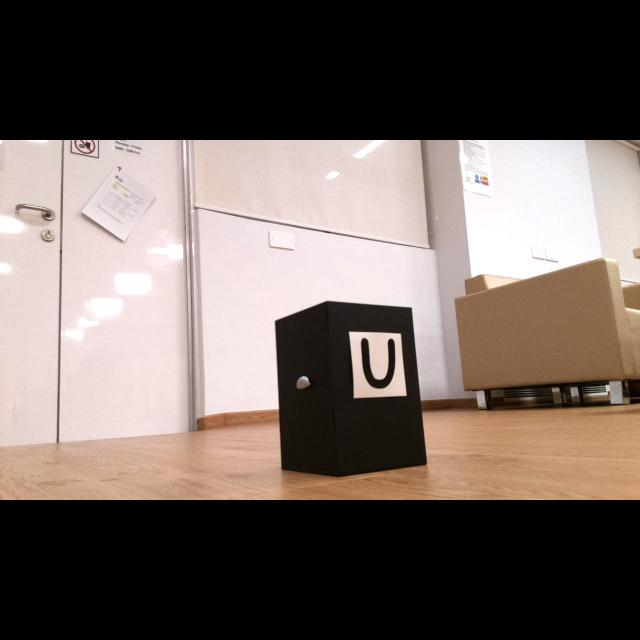U: (360, 337, 396, 389)
